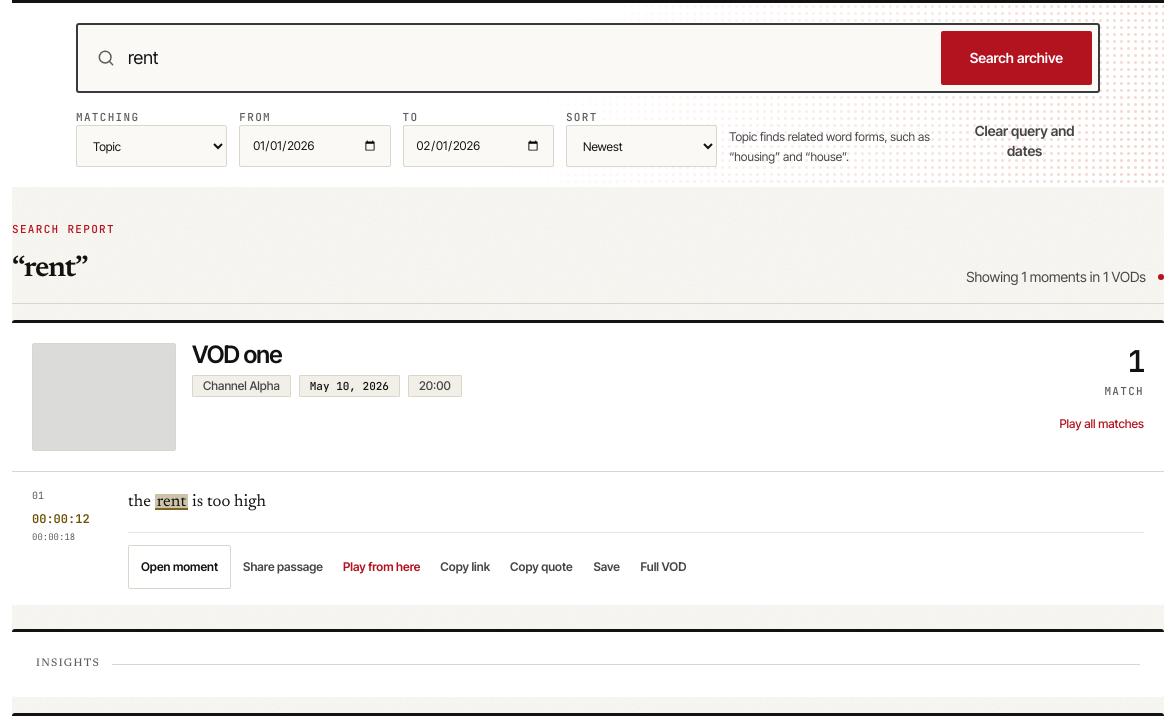
SearchPage › clears the complete query and filter state
This screenshot has width=1164, height=720.
Click the button "Clear query and dates".
click(1025, 141)  # box [949,115,1100,167]
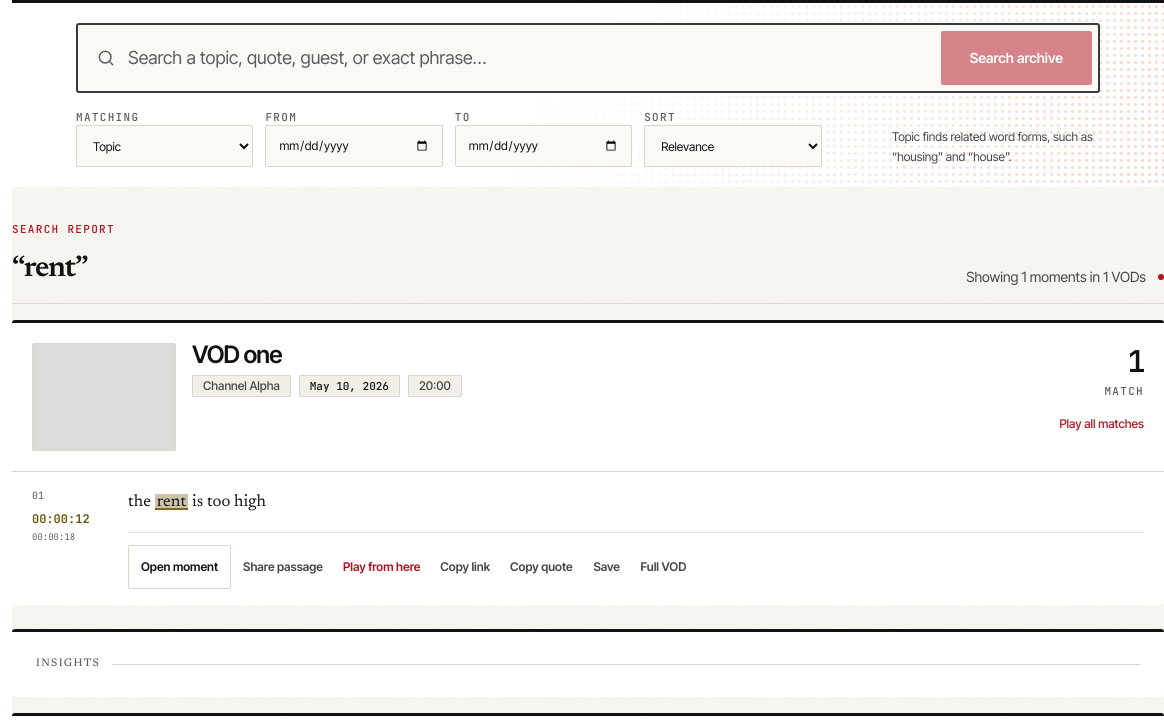
Now the search field named "Search query" is empty, box [128,31,921,85]
Now the dropdown labelled "Sort" shows "Relevance", box [644,125,822,167]
